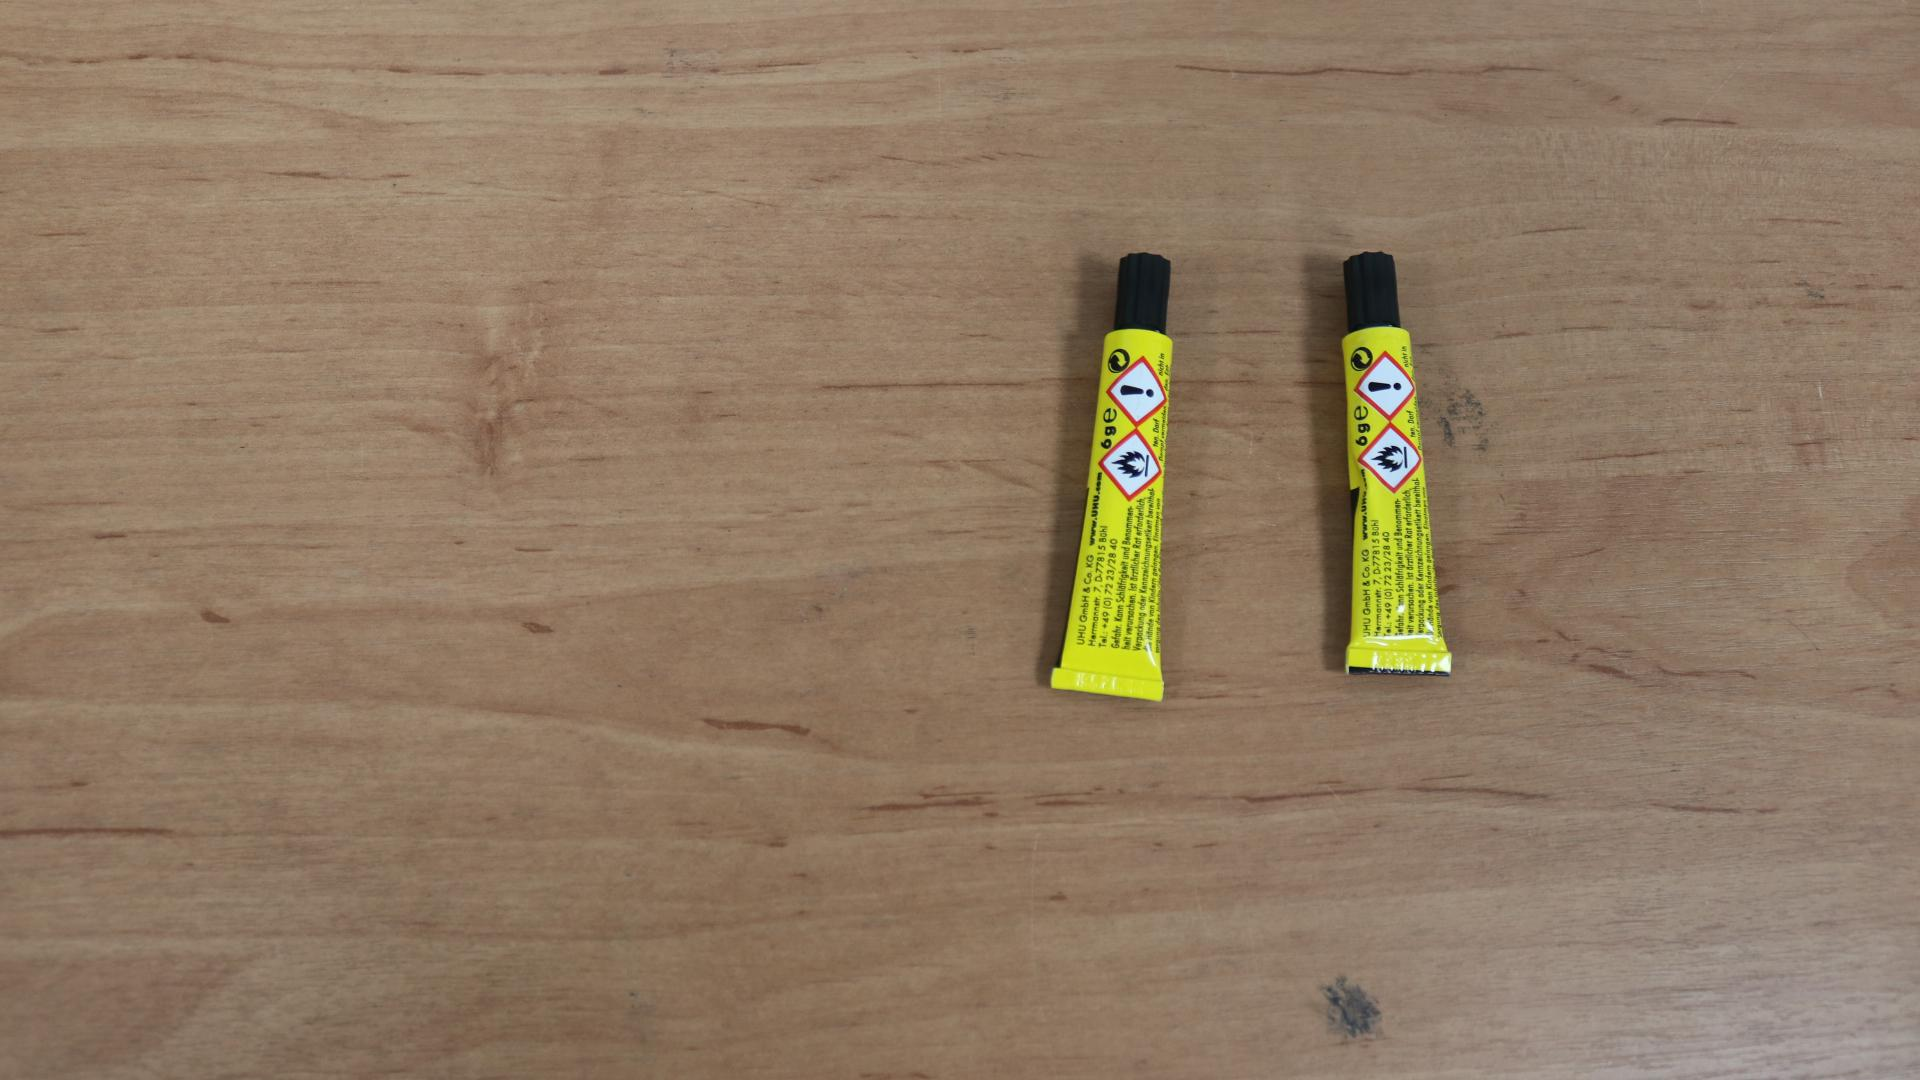Head: (1369, 288, 1374, 294), (1141, 289, 1145, 293)
Tail: (1397, 658, 1403, 664), (1104, 681, 1109, 686)
Tube: (1049, 250, 1175, 704), (1342, 250, 1454, 678)
